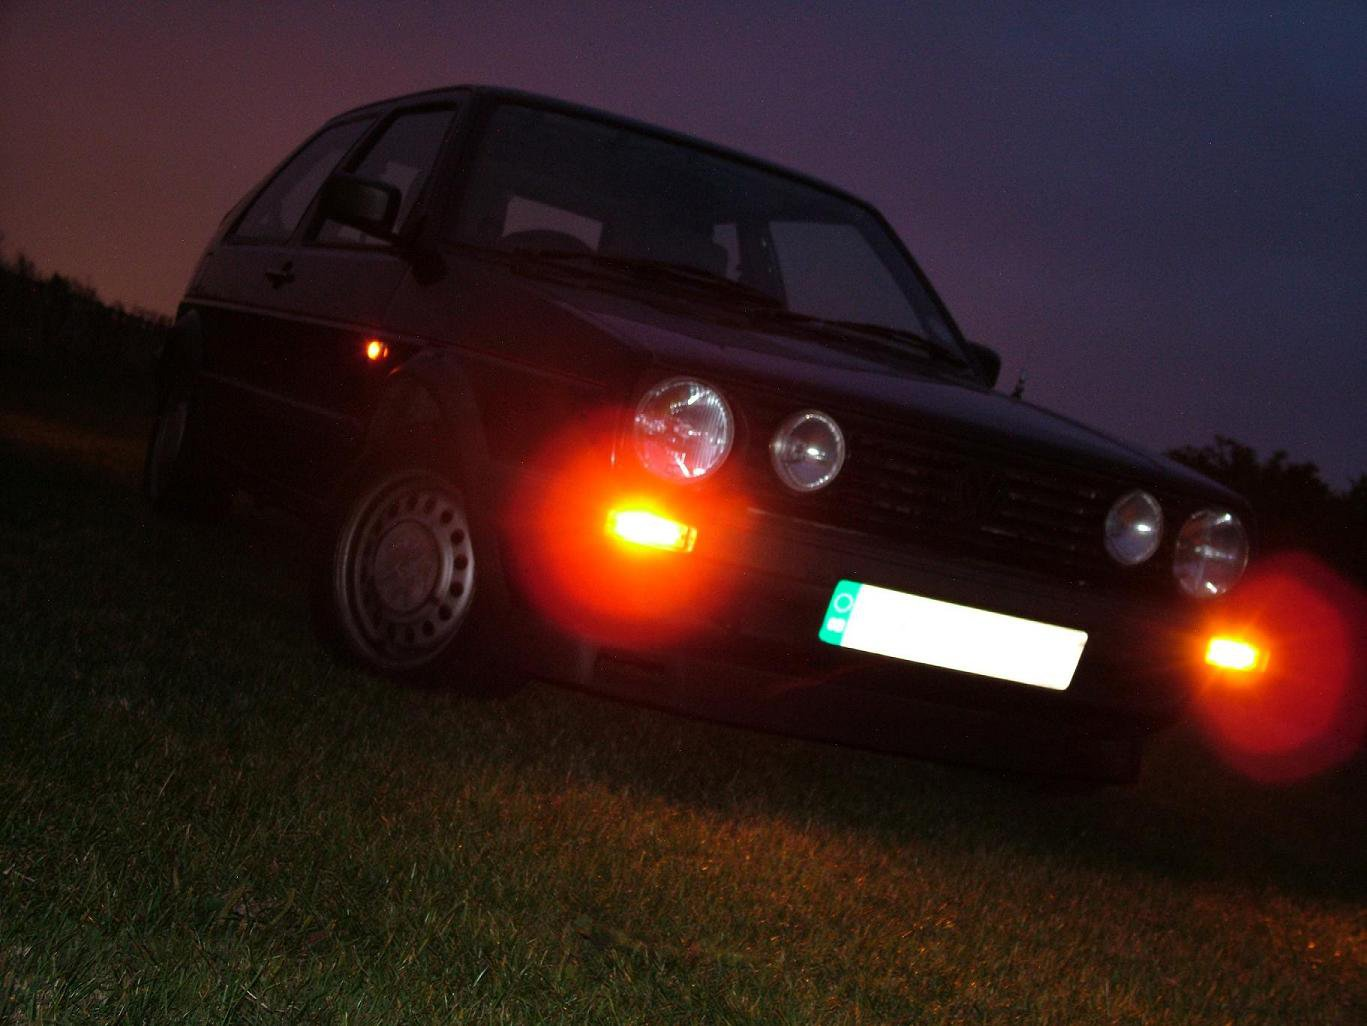car: (125, 78, 1293, 842)
